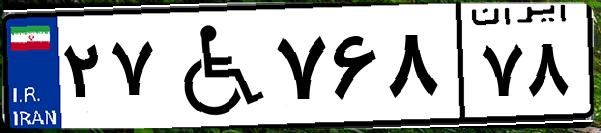2: (57, 26, 110, 100)
6: (330, 28, 385, 110)
7: (270, 28, 330, 110), (475, 38, 525, 113), (110, 28, 158, 98)
8: (385, 28, 445, 110), (525, 38, 570, 115)
ژ (معلولین و جانبازان): (158, 12, 270, 120)
